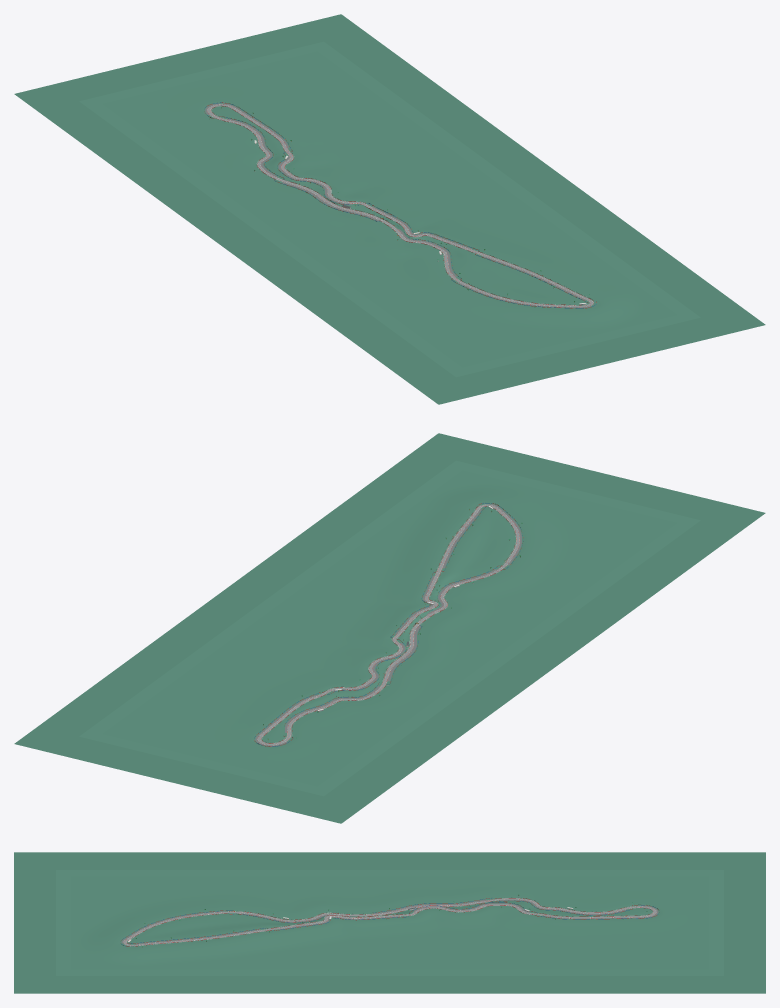
Rendered from jeddah.glb.
3 views of the same model, one above another, from view 1: azimuth 30°, elevation 25°; view 2: azimuth 150°, elevation 25°; view 3: azimuth 270°, elevation 25° (orthographic). The views are drawn at different scales.
Parts seen in each view (by area): view 1: terrain_infield, terrain_outskirts, terrain_verge, track_surface, asphalt_runoff_zones, track_runoff, continuous_safety_barriers, track_embankment; view 2: terrain_infield, terrain_outskirts, terrain_verge, track_surface, asphalt_runoff_zones, track_runoff, continuous_safety_barriers, track_embankment; view 3: terrain_infield, terrain_outskirts, terrain_verge, track_surface, asphalt_runoff_zones, continuous_safety_barriers, track_runoff, track_embankment, track_curbs.
Boxes of the visible parts, bbox=[...] form: terrain_infield: bbox=[103, 51, 676, 367]; terrain_outskirts: bbox=[14, 14, 765, 404]; terrain_verge: bbox=[79, 41, 700, 377]; track_surface: bbox=[207, 104, 592, 306]; asphalt_runoff_zones: bbox=[205, 103, 590, 307]; track_runoff: bbox=[207, 105, 593, 307]; continuous_safety_barriers: bbox=[205, 102, 596, 308]; track_embankment: bbox=[209, 106, 594, 306]; terrain_infield: bbox=[103, 470, 676, 786]; terrain_outskirts: bbox=[14, 433, 765, 823]; terrain_verge: bbox=[79, 460, 700, 796]; track_surface: bbox=[258, 504, 519, 745]; asphalt_runoff_zones: bbox=[255, 504, 521, 746]; track_runoff: bbox=[257, 504, 519, 745]; continuous_safety_barriers: bbox=[254, 503, 523, 746]; track_embankment: bbox=[261, 504, 515, 743]; terrain_infield: bbox=[71, 876, 708, 969]; terrain_outskirts: bbox=[14, 852, 765, 993]; terrain_verge: bbox=[56, 870, 723, 975]; track_surface: bbox=[123, 898, 656, 945]; asphalt_runoff_zones: bbox=[121, 899, 658, 944]; continuous_safety_barriers: bbox=[121, 898, 658, 946]; track_runoff: bbox=[123, 898, 656, 946]; track_embankment: bbox=[122, 898, 652, 946]; track_curbs: bbox=[124, 898, 655, 945].
Bounding box in the file's own units: 1749 × 19.95 × 3931.
